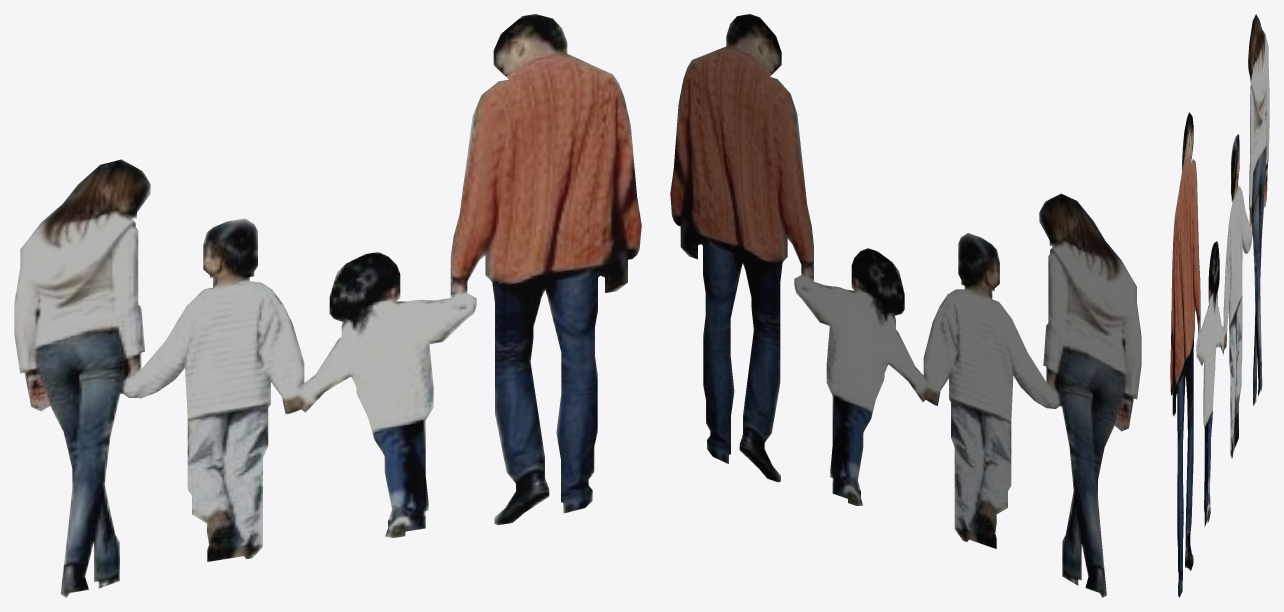
The picture shows the model from 3 angles, left to right: view 1: azimuth 30°, elevation 25°; view 2: azimuth 150°, elevation 25°; view 3: azimuth 270°, elevation 25°; orthographic projection. The views are drawn at different scales.
Parts seen in each view (by area): view 1: Component_1; view 2: Component_1; view 3: Component_1.
Boxes of the visible parts, box(x1,y1,x2,y2) form: Component_1: box(14, 14, 641, 597); Component_1: box(670, 14, 1141, 597); Component_1: box(1170, 14, 1269, 597).
Bounding box in the file's own units: 81.07 × 13.27 × 68.78.
Materials: 3 (1 with a texture image).
